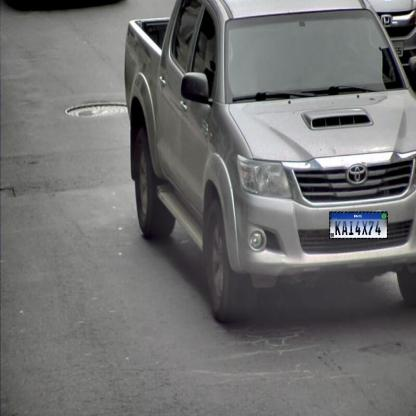PlacaM: (329, 212, 388, 239)
